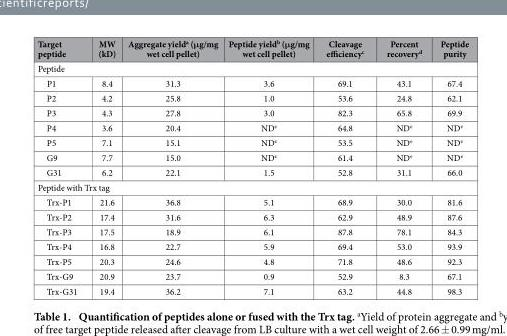table: (36, 37, 468, 296)
table column: (121, 37, 222, 296), (222, 37, 317, 296), (317, 37, 374, 296), (374, 37, 430, 296), (36, 37, 87, 296), (430, 37, 468, 296), (87, 37, 121, 296)
table column header: (36, 37, 468, 60)
table projected row header: (36, 60, 468, 75), (36, 179, 468, 194)
table row: (36, 37, 468, 60), (36, 60, 468, 75), (36, 75, 468, 90), (36, 90, 468, 105), (36, 119, 468, 134), (36, 134, 468, 149), (36, 149, 468, 164), (36, 164, 468, 179), (36, 179, 468, 194), (36, 194, 468, 209), (36, 223, 468, 238), (36, 238, 468, 253), (36, 253, 468, 268), (36, 268, 468, 283), (36, 105, 468, 119), (36, 209, 468, 223), (36, 283, 468, 296)
